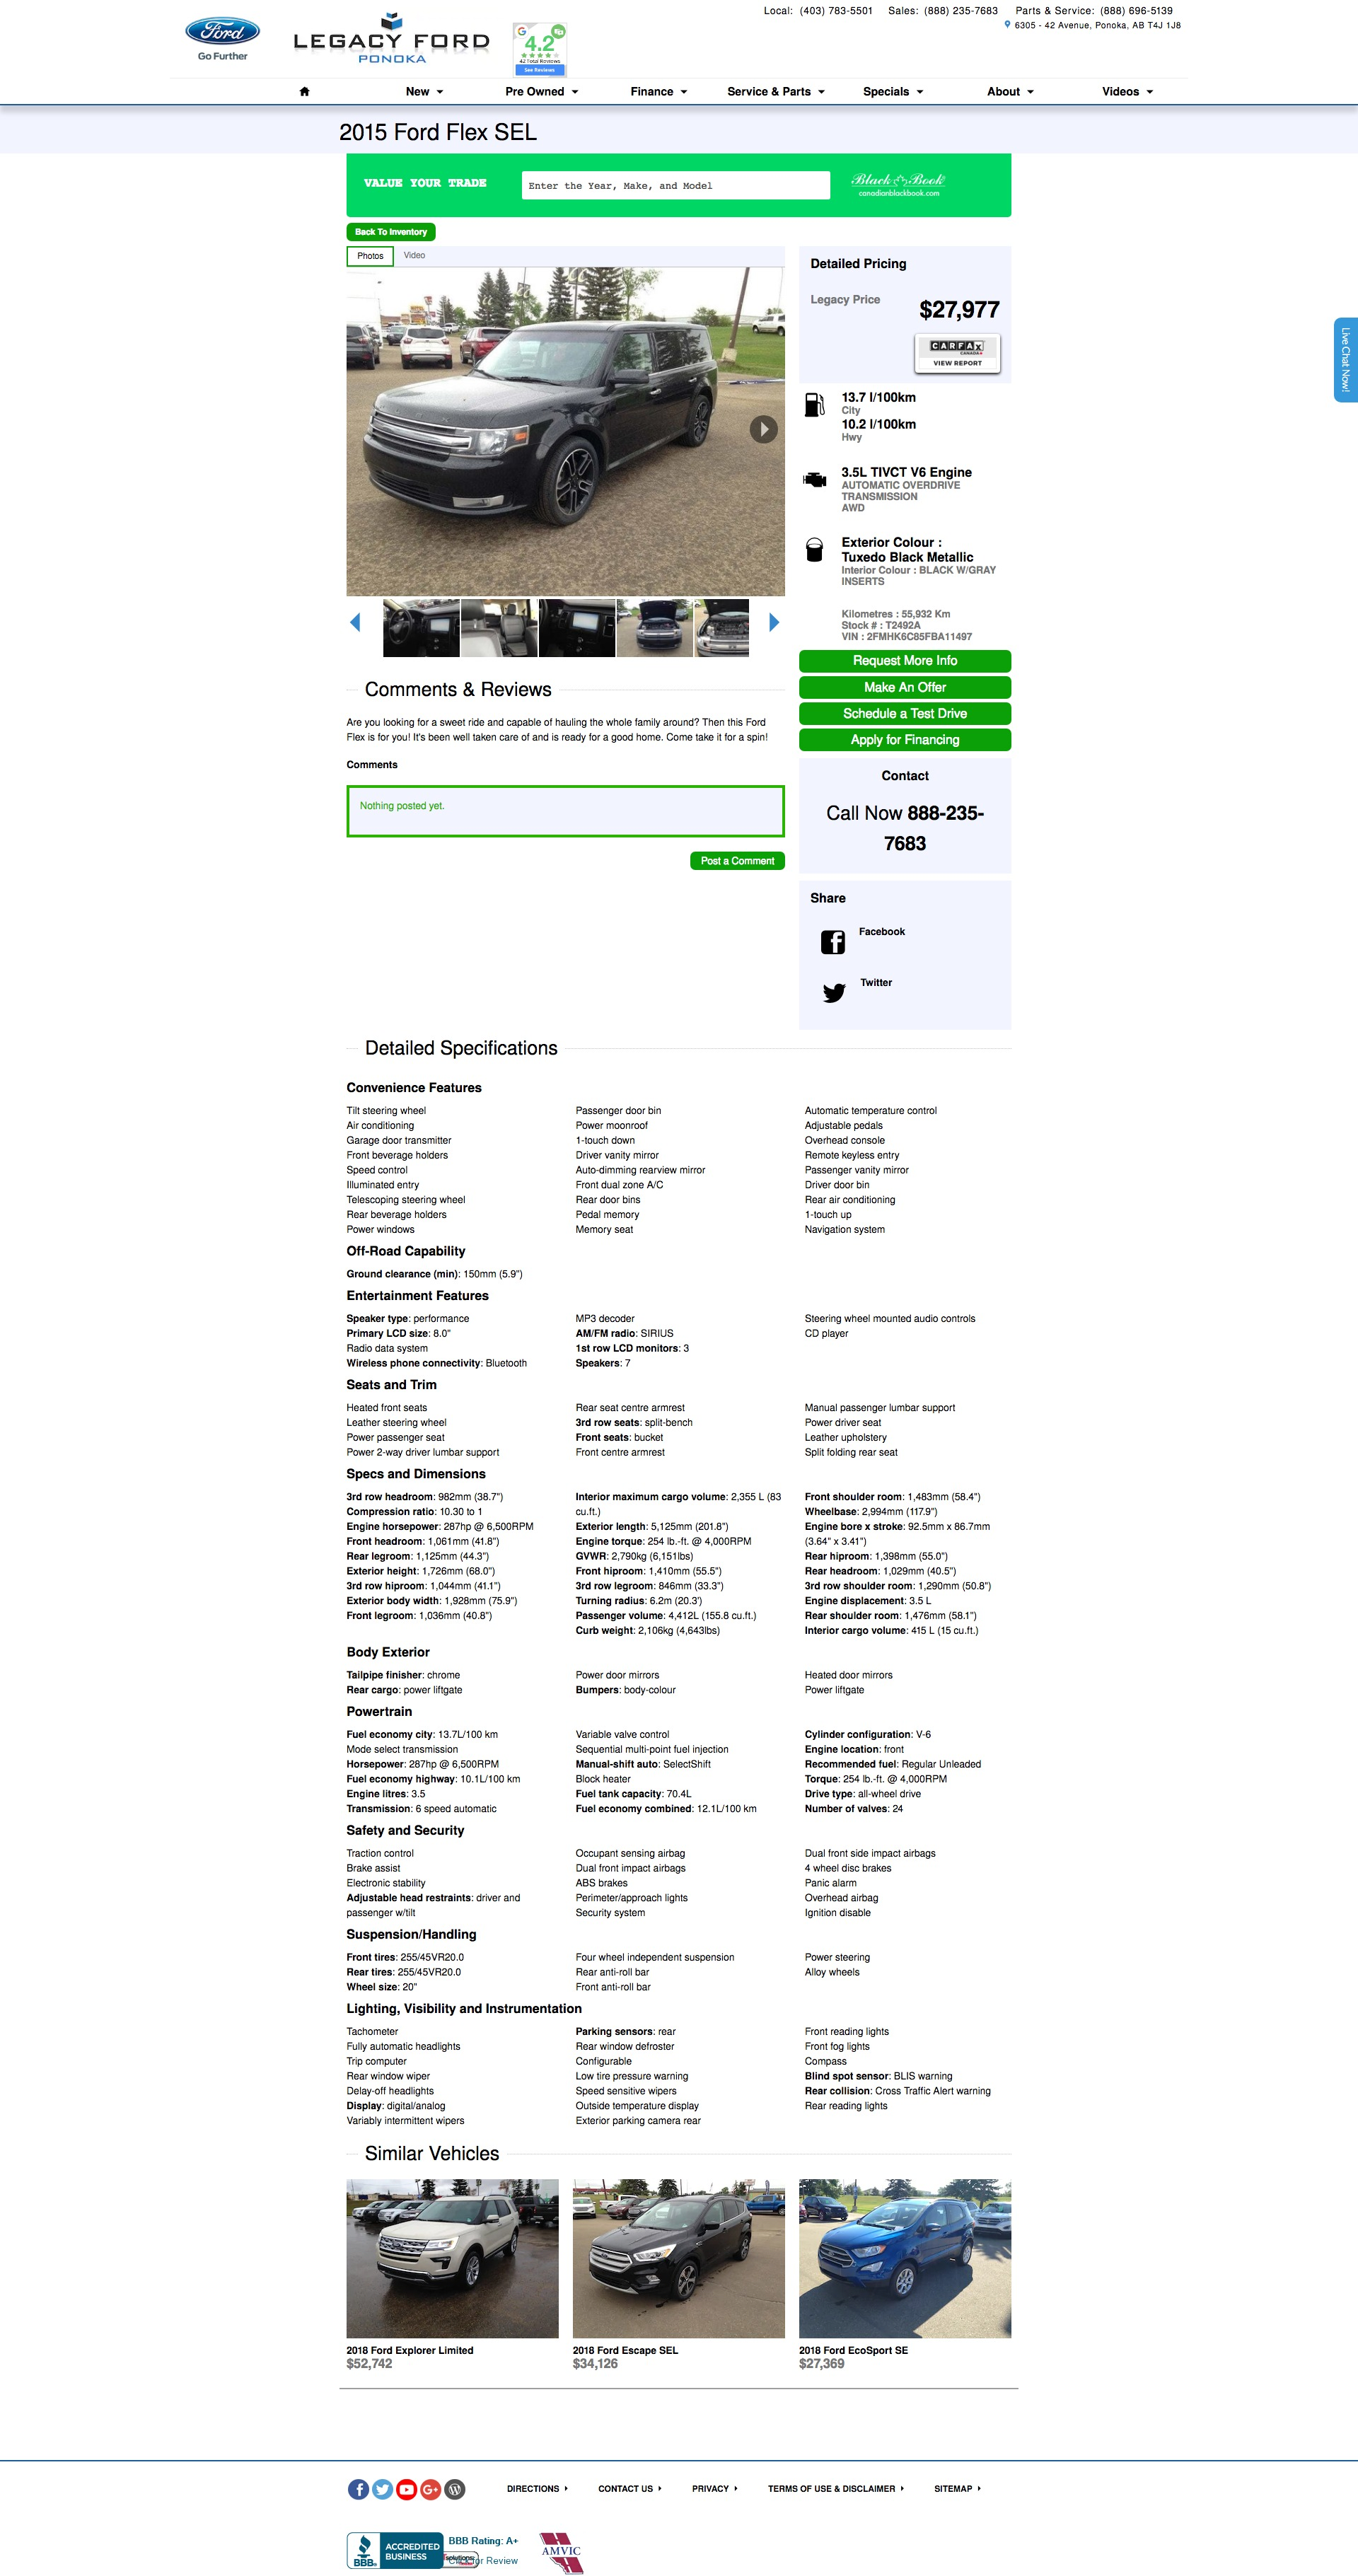car: (768, 613, 780, 634)
